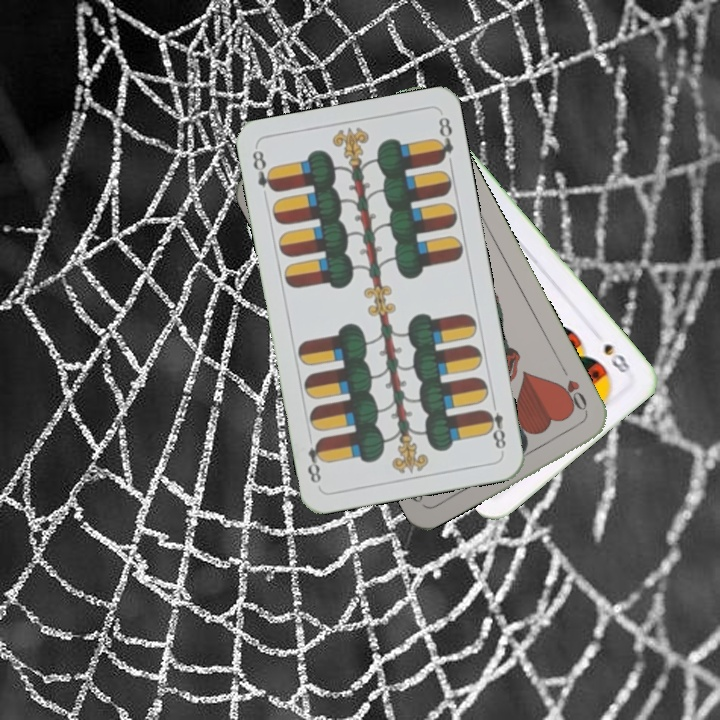E8: (480, 396, 508, 452), (248, 146, 279, 195)
HO: (553, 362, 591, 417)
S8: (599, 339, 634, 376)
